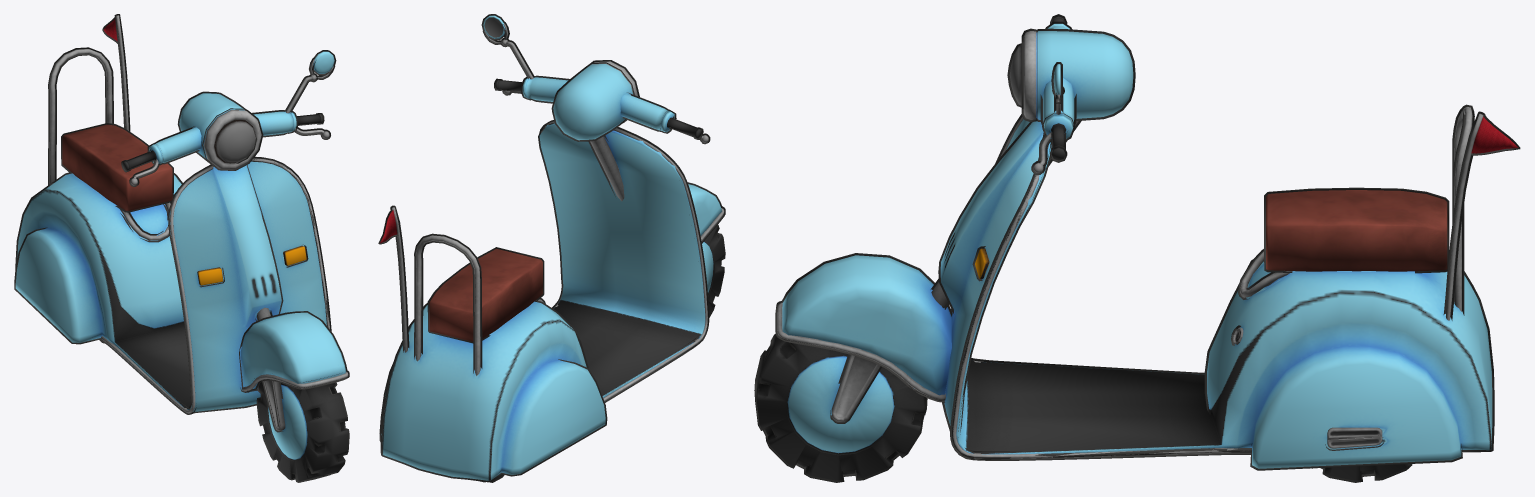
Rendered from motorcycle.gltf.
3 renders of one model, left to right at view 1: azimuth 30°, elevation 25°; view 2: azimuth 150°, elevation 25°; view 3: azimuth 270°, elevation 25°, orthographic. The views are drawn at different scales.
Parts seen in each view (by area): view 1: Cube.005, Cube.009; view 2: Cube.005, Cube.009; view 3: Cube.005, Cube.009.
Part boxes in pixels (<box>): Cube.005: <box>15,15,348,481</box>; Cube.009: <box>14,14,349,482</box>; Cube.005: <box>380,15,724,480</box>; Cube.009: <box>378,14,725,482</box>; Cube.005: <box>756,16,1518,480</box>; Cube.009: <box>754,14,1520,482</box>.
Size of the model in its own units: 300 by 462 by 673.
Materials: 2 (1 with a texture image).
